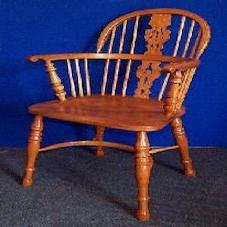chair: (11, 12, 217, 222)
